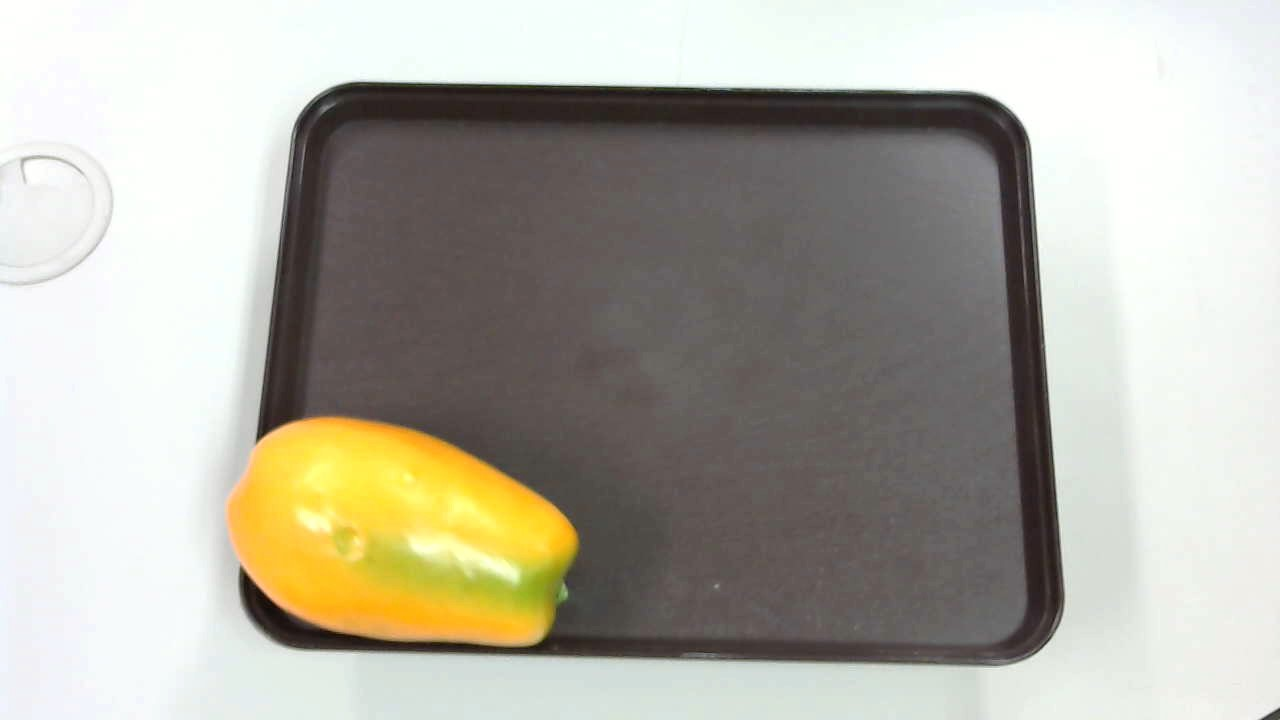papya: (227, 415, 588, 652)
